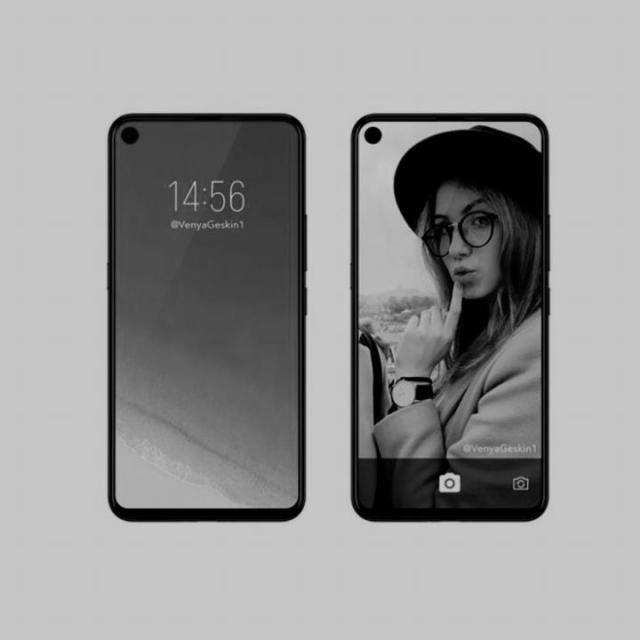fake: (346, 108, 556, 526), (106, 108, 312, 524)
